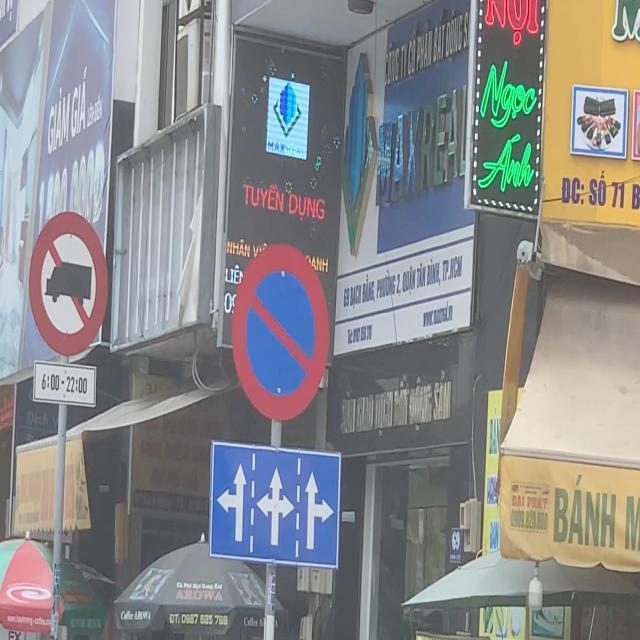Cam con lai: (28, 210, 109, 358)
Cam do: (231, 243, 330, 422)
